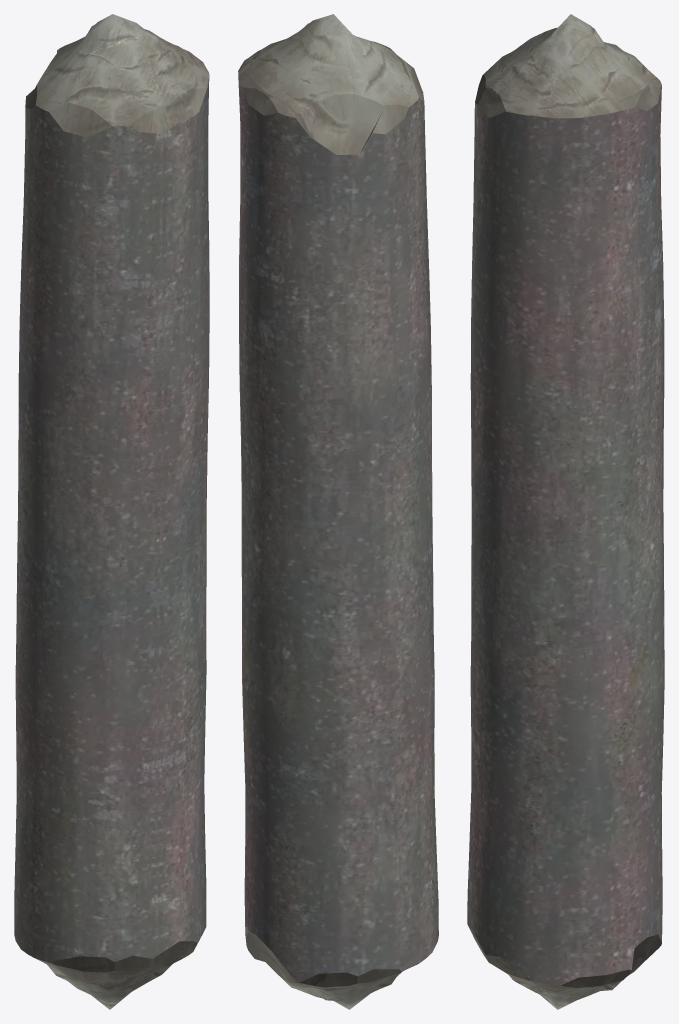
The picture shows the model from 3 angles, left to right: view 1: azimuth 30°, elevation 25°; view 2: azimuth 150°, elevation 25°; view 3: azimuth 270°, elevation 25°; orthographic projection.
Visible parts, largest first — view 1: SM_GF_Ash_Tree_03_tree_quarters_bottom_LOD0; view 2: SM_GF_Ash_Tree_03_tree_quarters_bottom_LOD0; view 3: SM_GF_Ash_Tree_03_tree_quarters_bottom_LOD0.
Part boxes in pixels (x1=…): SM_GF_Ash_Tree_03_tree_quarters_bottom_LOD0: x1=14, y1=14, x2=209, y2=1009; SM_GF_Ash_Tree_03_tree_quarters_bottom_LOD0: x1=238, y1=14, x2=438, y2=1009; SM_GF_Ash_Tree_03_tree_quarters_bottom_LOD0: x1=467, y1=14, x2=664, y2=1009.
Size of the model in its own units: 0.4731 by 2.62 by 0.4681.
